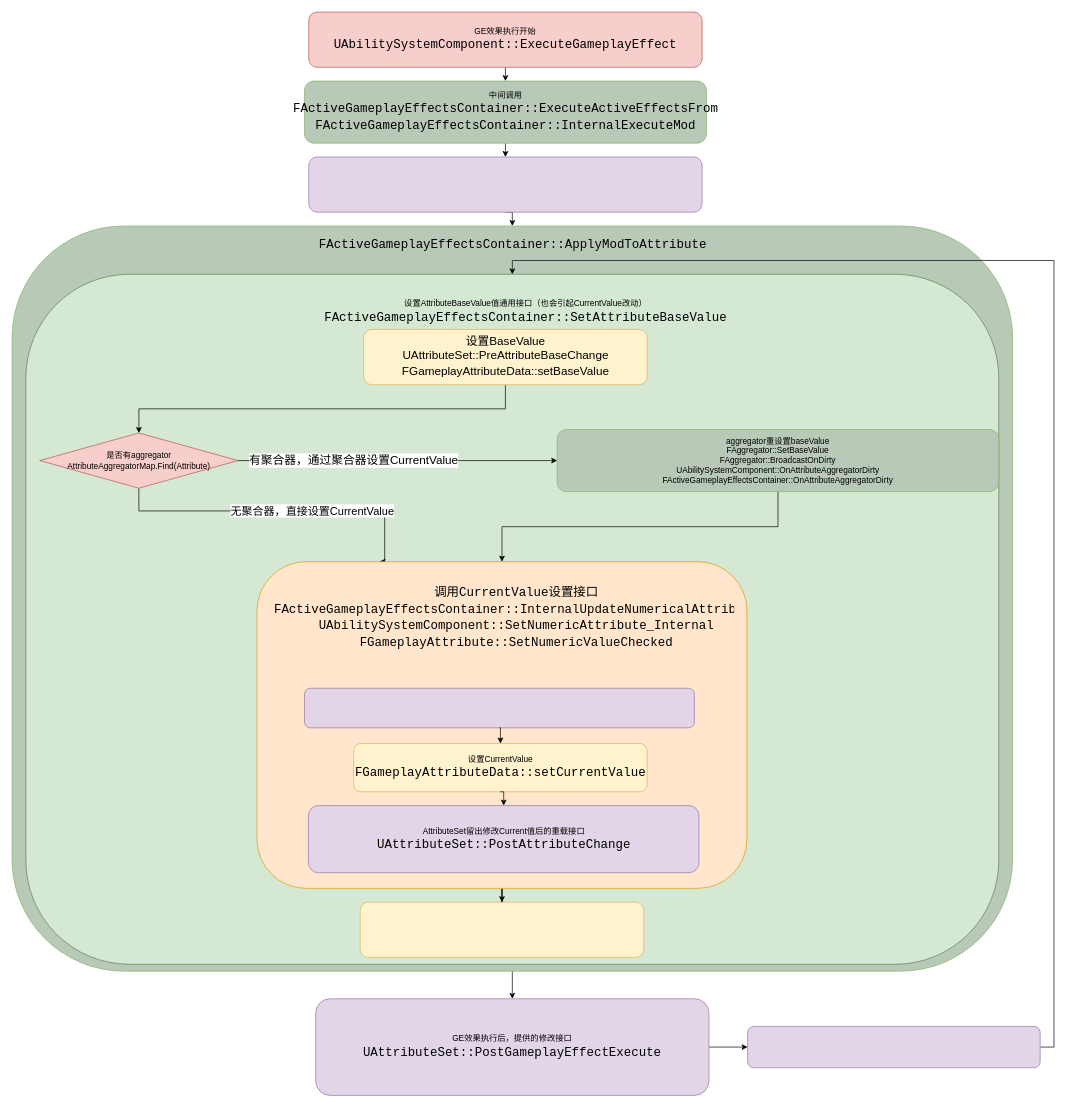
The diagram is 1072 pixels wide and 1107 high, and some of its shapes have lost their labels. Each missing label, with the centre of its shape:
"AttributeSet留出修改Current值前的重载接口 UAttributeSet::PreAttributeChange" belongs at point 499,708.
"BaseValue被修改后可重载的接口 UAttributeSet::PostAttributeBaseChange" belongs at point 501,929.
"GE效果正式执行前，暴露的调用接口 UAttributeSet::PreGameplayEffectExecute" belongs at point 505,184.
"中间修改属性 UAttributeSet::SetHealth/Mana/xx" belongs at point 893,1047.
